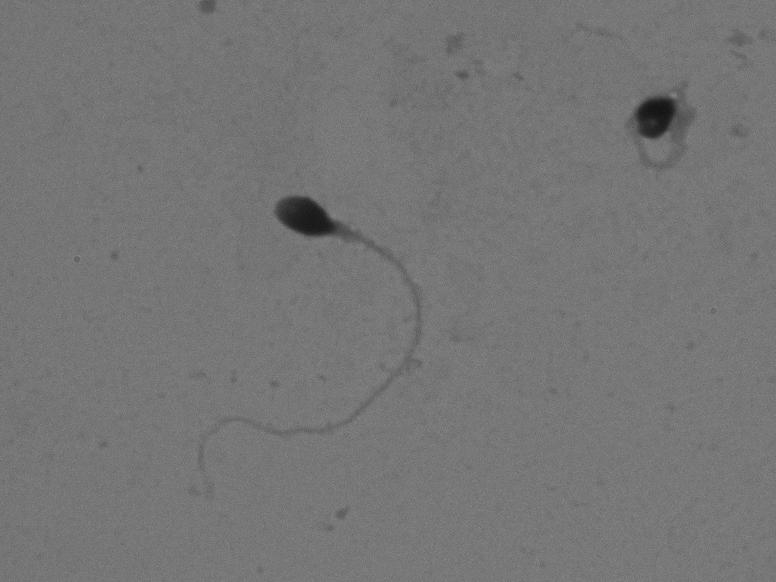Abnormal: (148, 164, 484, 504), (574, 62, 727, 195)
